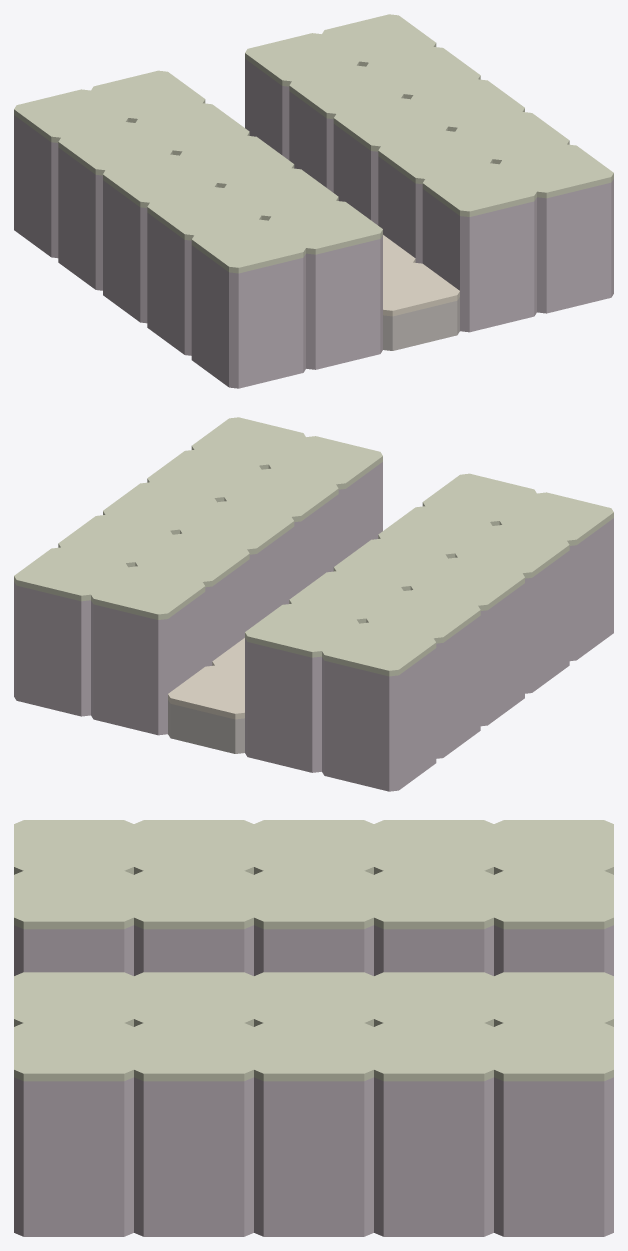
File: ravine.glb
The picture shows the model from 3 angles, top to bottom: view 1: azimuth 30°, elevation 25°; view 2: azimuth 150°, elevation 25°; view 3: azimuth 270°, elevation 25°; orthographic projection. The views are drawn at different scales.
Visible parts, largest first — view 1: ravine_998793, ravine_ADB18A, ravine_C9B99C, ravine_A29891; view 2: ravine_998793, ravine_ADB18A, ravine_C9B99C, ravine_A29891; view 3: ravine_ADB18A, ravine_998793.
Boxes of the visible parts, x1=… form: ravine_998793: x1=14, y1=59, x2=613, y2=388; ravine_ADB18A: x1=14, y1=14, x2=613, y2=273; ravine_C9B99C: x1=383, y1=235, x2=459, y2=316; ravine_A29891: x1=383, y1=297, x2=459, y2=350; ravine_998793: x1=14, y1=462, x2=613, y2=791; ravine_ADB18A: x1=14, y1=417, x2=613, y2=676; ravine_C9B99C: x1=168, y1=638, x2=244, y2=719; ravine_A29891: x1=168, y1=700, x2=244, y2=753; ravine_ADB18A: x1=14, y1=820, x2=613, y2=1081; ravine_998793: x1=14, y1=874, x2=613, y2=1236.
Size of the model in its own units: 5 by 1.5 by 5.
